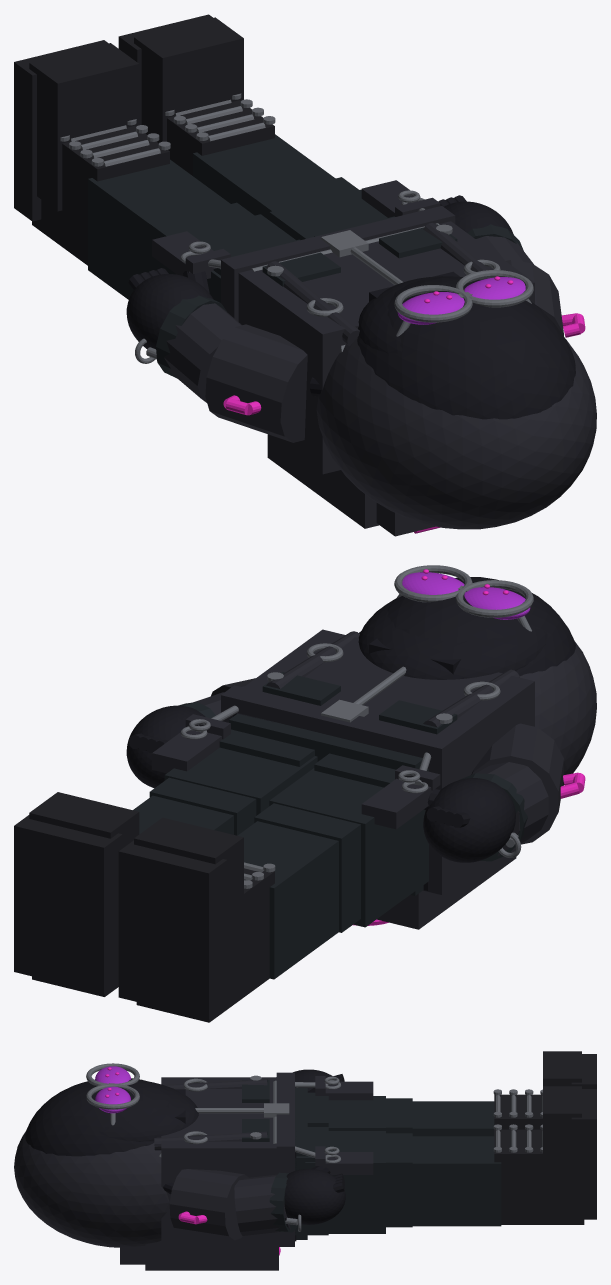
File: LIL_SYNN_3D_Model_ReferenceBased-4.glb
3 views of the same model, one above another, from view 1: azimuth 30°, elevation 25°; view 2: azimuth 150°, elevation 25°; view 3: azimuth 270°, elevation 25° (orthographic). The views are drawn at different scales.
Parts seen in each view (by area): view 1: hood_outer, hood_inner, jacket_torso, boot_toe_-1, lower_leg_-1, boot_toe_1, sleeve_upper_-1, lower_leg_1, boot_upper_-1, jacket_hem, boot_sole_-1, sleeve_lower_-1 (+25 smaller); view 2: boot_sole_-1, boot_sole_1, jacket_torso, lower_leg_-1, upper_leg_-1, jacket_hem, full_face_cloth, hood_inner, glove_-1, hood_outer, boot_toe_-1, upper_leg_1 (+24 smaller); view 3: hood_outer, jacket_torso, lower_leg_1, hood_inner, boot_upper_1, upper_leg_1, sleeve_upper_1, boot_toe_1, backpack_body, boot_sole_1, lower_leg_-1, glove_1 (+27 smaller).
Boxes of the visible parts, box(x1,y1,x2,y2) form: hood_outer: box(316, 337, 596, 529); hood_inner: box(357, 277, 575, 419); jacket_torso: box(238, 221, 534, 474); boot_toe_-1: box(29, 43, 139, 211); lower_leg_-1: box(88, 159, 230, 299); boot_toe_1: box(134, 17, 243, 142); sleeve_upper_-1: box(205, 324, 307, 442); lower_leg_1: box(192, 134, 335, 214); boot_upper_-1: box(32, 126, 169, 265); jacket_hem: box(221, 206, 455, 321); boot_sole_-1: box(14, 40, 108, 221); sleeve_lower_-1: box(164, 303, 241, 402); boot_sole_-1: box(118, 840, 227, 1019); boot_sole_1: box(14, 815, 122, 993); jacket_torso: box(225, 629, 534, 879); lower_leg_-1: box(237, 821, 338, 979); upper_leg_-1: box(269, 768, 424, 927); jacket_hem: box(221, 685, 455, 894); full_face_cloth: box(358, 598, 547, 679); hood_inner: box(387, 577, 575, 675); glove_-1: box(423, 778, 515, 862); hood_outer: box(359, 631, 596, 785); boot_toe_-1: box(134, 817, 243, 976); upper_leg_1: box(164, 747, 317, 815); hood_outer: box(14, 1131, 169, 1247); jacket_torso: box(161, 1077, 276, 1244); lower_leg_1: box(412, 1136, 501, 1226); hood_inner: box(25, 1078, 171, 1156); boot_upper_1: box(494, 1129, 584, 1224); upper_leg_1: box(305, 1131, 385, 1233); sleeve_upper_1: box(169, 1169, 248, 1240); boot_toe_1: box(543, 1086, 581, 1201); backpack_body: box(145, 1241, 278, 1270); boot_sole_1: box(571, 1089, 596, 1219); lower_leg_-1: box(412, 1101, 494, 1136); glove_1: box(284, 1169, 345, 1224).
Bounding box in the file's own units: 1.33 × 0.848 × 2.53.
